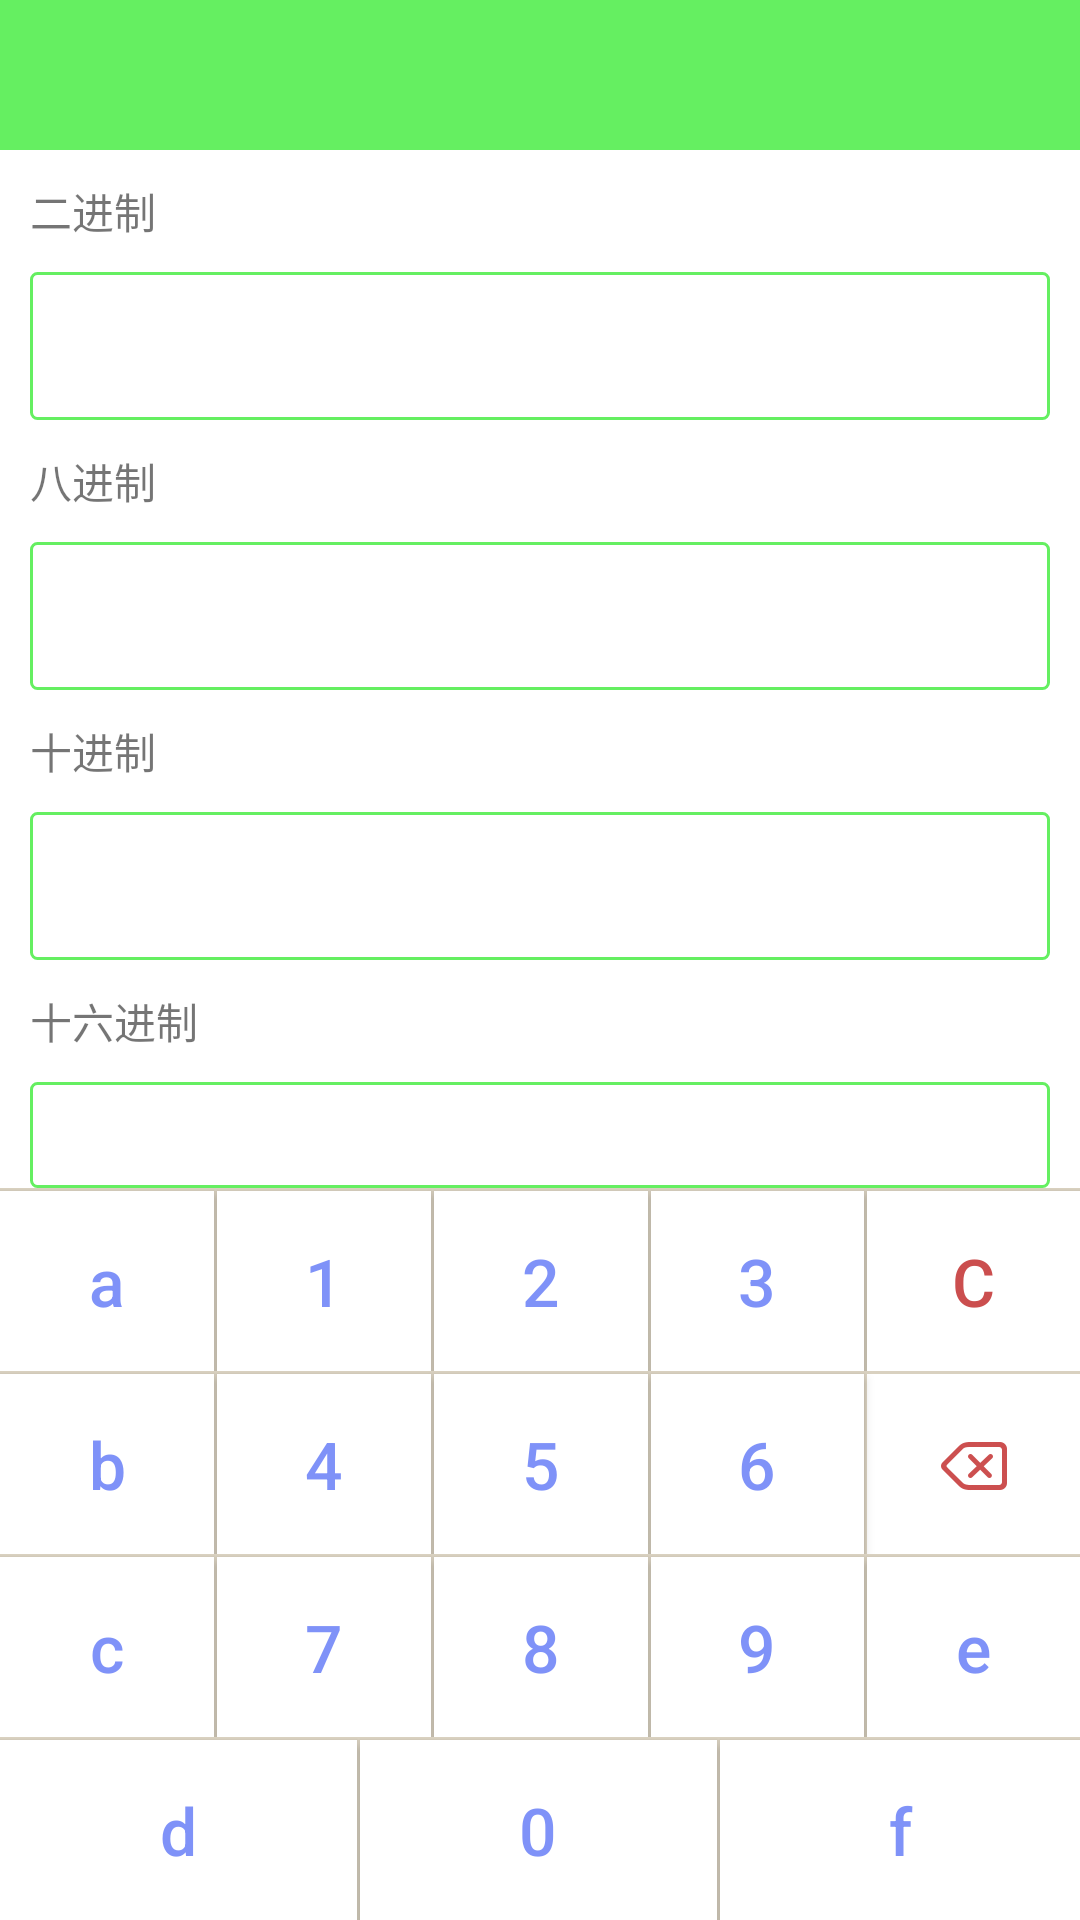

Named icons in this screenshot (1080x1920) and their bounding boxes, (x1, y1, x2, y2):
pad del: (941, 1442, 1007, 1490)
